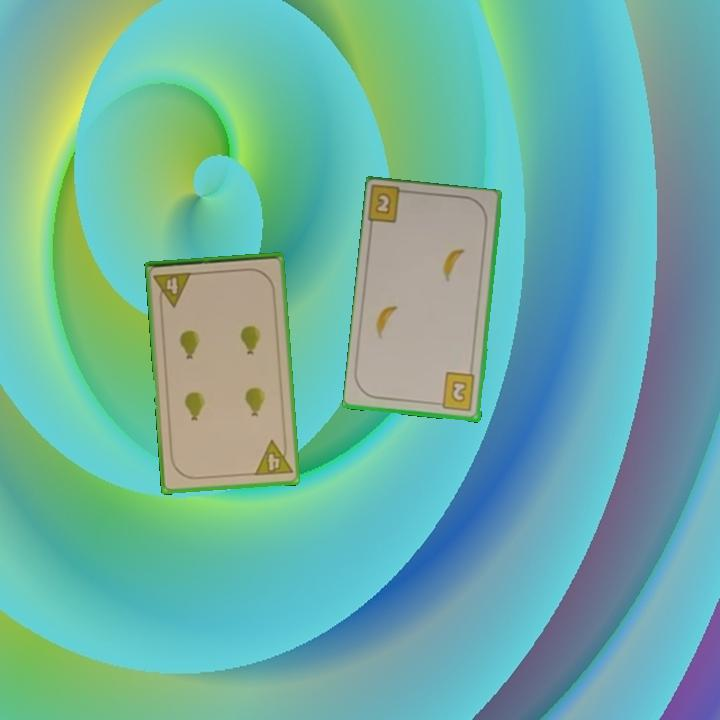2b: (433, 369, 478, 414), (366, 184, 414, 226)
4p: (251, 436, 295, 479), (150, 269, 195, 310)
